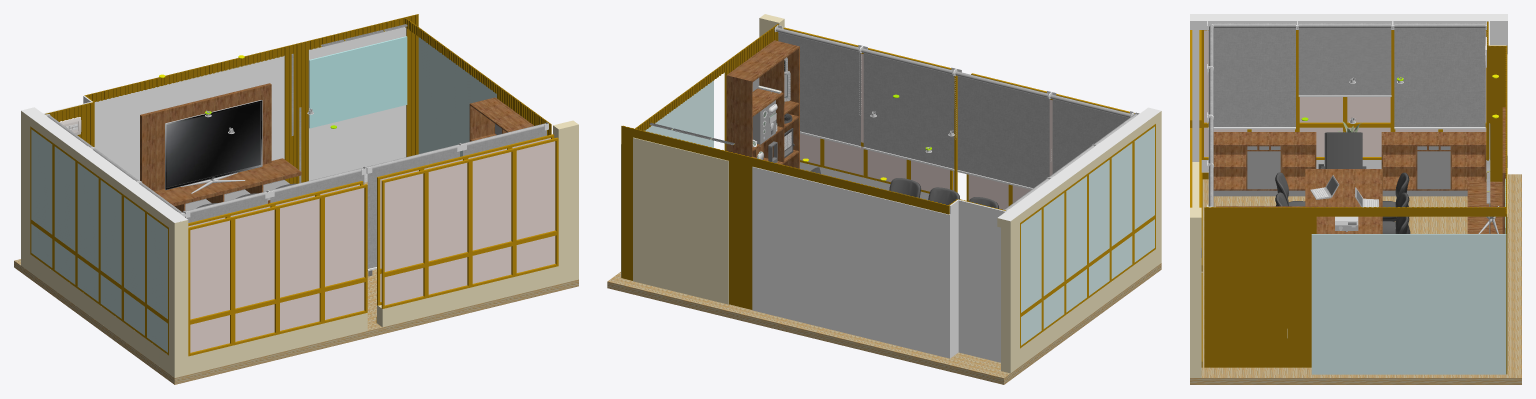
Rendered from showroom.glb.
3 views of the same model, side by side, from view 1: azimuth 30°, elevation 25°; view 2: azimuth 150°, elevation 25°; view 3: azimuth 270°, elevation 25° (orthographic). The views are drawn at different scales.
Visible parts, largest first — view 1: OPT_032_Color_B01, OPT_028_Color_H01_1, OPT_029_Color_D02, OPT_002_Color_000_1, OPT_031_Color_C07, OPT_021_Color_C08, OPT_015_Wood_Floor_1, OPT_042_Color_H02, OPT_038_Sophie_Shirt_Red1, OPT_034_LC_Roller_Window_Blinds_Material1, OPT_020_Wood_Floor_Light, OPT_009_Aluminum (+1 smaller); view 2: OPT_002_Color_000_1, OPT_034_LC_Roller_Window_Blinds_Material1, OPT_029_Color_D02, OPT_028_Color_H01_1, OPT_021_Color_C08, OPT_020_Wood_Floor_Light, OPT_015_Wood_Floor_1, OPT_031_Color_C07, OPT_032_Color_B01, OPT_000_Color_M08, OPT_033_LC_Roller_Window_Blinds_Material, OPT_004_Color_005_1; view 3: OPT_028_Color_H01_1, OPT_034_LC_Roller_Window_Blinds_Material1, OPT_021_Color_C08, OPT_015_Wood_Floor_1, OPT_020_Wood_Floor_Light, OPT_002_Color_000_1, OPT_032_Color_B01, OPT_004_Color_005_1, OPT_031_Color_C07, OPT_000_Color_M08, OPT_029_Color_D02, OPT_033_LC_Roller_Window_Blinds_Material (+3 smaller).
Part boxes in pixels (x1=…): OPT_032_Color_B01: x1=188, y1=138, x2=555, y2=352; OPT_028_Color_H01_1: x1=31, y1=37, x2=496, y2=352; OPT_029_Color_D02: x1=21, y1=50, x2=578, y2=377; OPT_002_Color_000_1: x1=21, y1=27, x2=406, y2=222; OPT_031_Color_C07: x1=30, y1=126, x2=558, y2=356; OPT_021_Color_C08: x1=45, y1=14, x2=551, y2=322; OPT_015_Wood_Floor_1: x1=140, y1=83, x2=533, y2=211; OPT_042_Color_H02: x1=309, y1=36, x2=407, y2=128; OPT_038_Sophie_Shirt_Red1: x1=165, y1=100, x2=262, y2=189; OPT_034_LC_Roller_Window_Blinds_Material1: x1=47, y1=115, x2=546, y2=268; OPT_020_Wood_Floor_Light: x1=14, y1=182, x2=578, y2=384; OPT_009_Aluminum: x1=209, y1=24, x2=407, y2=183; OPT_002_Color_000_1: x1=752, y1=107, x2=1161, y2=362; OPT_034_LC_Roller_Window_Blinds_Material1: x1=776, y1=27, x2=1137, y2=210; OPT_029_Color_D02: x1=633, y1=14, x2=1161, y2=373; OPT_028_Color_H01_1: x1=621, y1=80, x2=1154, y2=345; OPT_021_Color_C08: x1=621, y1=24, x2=1005, y2=309; OPT_020_Wood_Floor_Light: x1=607, y1=263, x2=1161, y2=384; OPT_015_Wood_Floor_1: x1=726, y1=40, x2=799, y2=168; OPT_031_Color_C07: x1=783, y1=27, x2=1155, y2=348; OPT_032_Color_B01: x1=800, y1=53, x2=1052, y2=209; OPT_000_Color_M08: x1=784, y1=101, x2=997, y2=208; OPT_033_LC_Roller_Window_Blinds_Material: x1=774, y1=25, x2=1139, y2=211; OPT_004_Color_005_1: x1=752, y1=78, x2=775, y2=144; OPT_028_Color_H01_1: x1=1311, y1=234, x2=1506, y2=374; OPT_034_LC_Roller_Window_Blinds_Material1: x1=1208, y1=23, x2=1485, y2=206; OPT_021_Color_C08: x1=1201, y1=21, x2=1507, y2=374; OPT_015_Wood_Floor_1: x1=1213, y1=107, x2=1505, y2=233; OPT_020_Wood_Floor_Light: x1=1190, y1=174, x2=1521, y2=384; OPT_002_Color_000_1: x1=1190, y1=14, x2=1507, y2=172; OPT_032_Color_B01: x1=1204, y1=30, x2=1486, y2=156; OPT_004_Color_005_1: x1=1213, y1=146, x2=1467, y2=196; OPT_031_Color_C07: x1=1190, y1=30, x2=1486, y2=207; OPT_000_Color_M08: x1=1201, y1=132, x2=1407, y2=257; OPT_029_Color_D02: x1=1190, y1=162, x2=1507, y2=377; OPT_033_LC_Roller_Window_Blinds_Material: x1=1207, y1=21, x2=1486, y2=207.
Bounding box in the file's own units: 6.22 × 2.47 × 4.28.
Materials: 64 (22 with a texture image).
